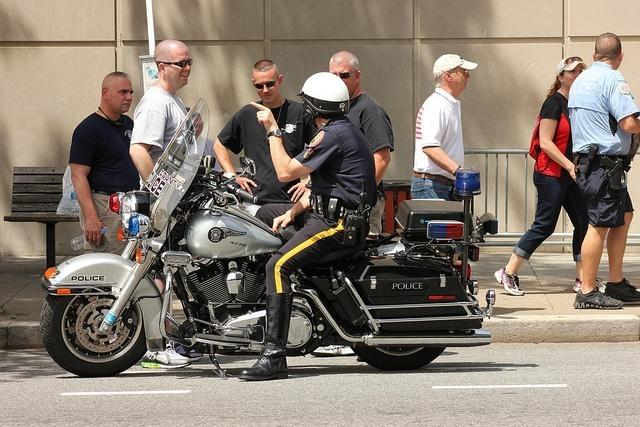motorcycle: (41, 96, 499, 377)
